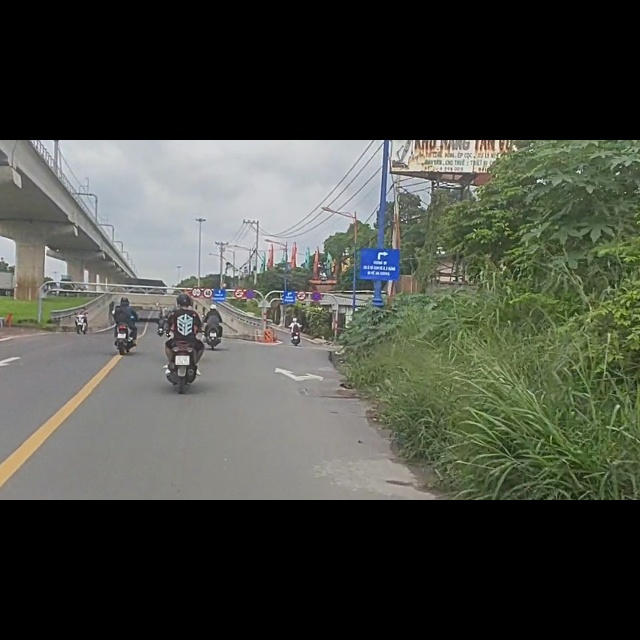bien_cam: (295, 268, 307, 286), (191, 261, 202, 280), (203, 263, 213, 282), (245, 264, 255, 283), (311, 269, 321, 287), (235, 264, 244, 283)
